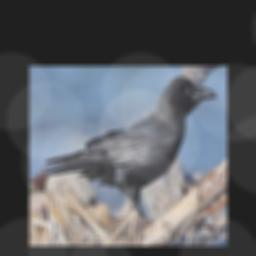Crow: (40, 75, 218, 226)
